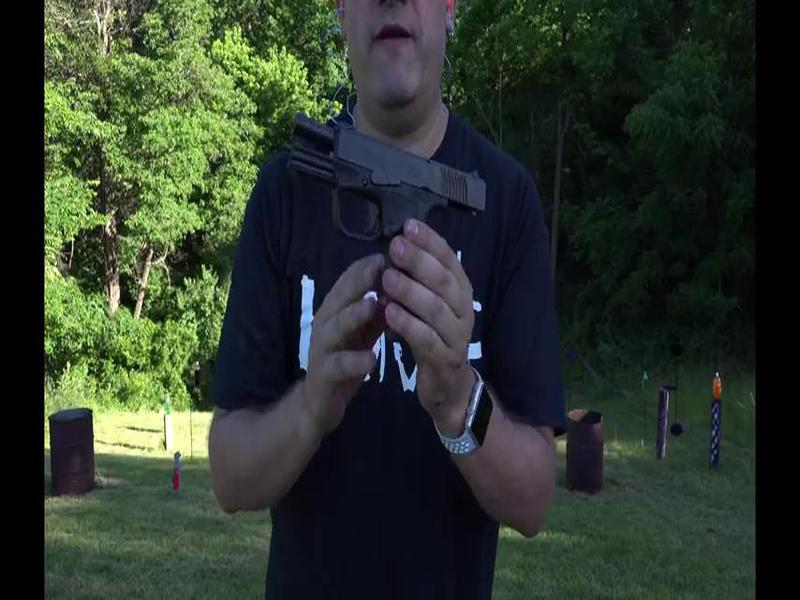Pistola: (267, 104, 514, 357)
